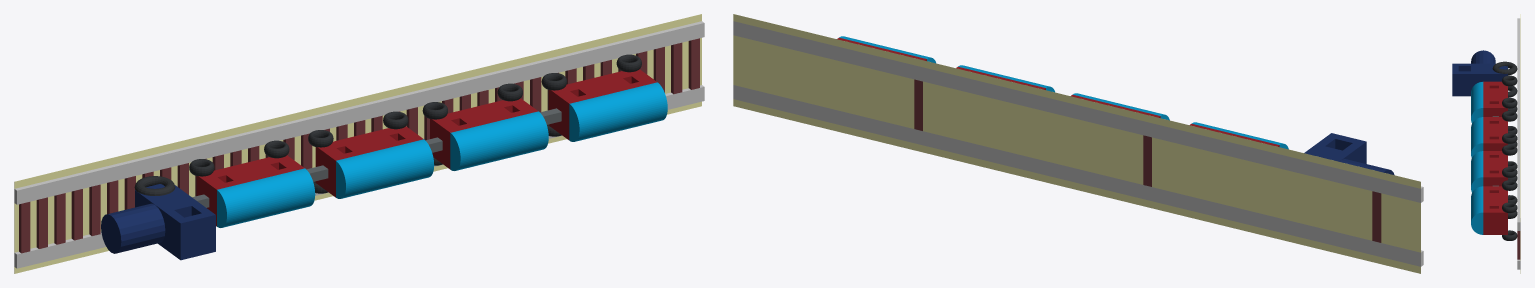
File: tinker.obj
The picture shows the model from 3 angles, left to right: view 1: azimuth 30°, elevation 25°; view 2: azimuth 150°, elevation 25°; view 3: azimuth 270°, elevation 25°; orthographic projection. The views are drawn at different scales.
Parts seen in each view (by area): view 1: group_0_40919, group_0_0, group_0_15789994, group_0_7682109, group_0_9771553, group_0_1650274, group_0_2829873, group_0_6383466; view 2: group_0_15789994, group_0_0, group_0_1650274, group_0_7682109, group_0_40919, group_0_9771553; view 3: group_0_9771553, group_0_2829873, group_0_40919, group_0_1650274, group_0_0, group_0_15789994, group_0_7682109.
Part boxes in pixels (box(x1,y1,x2,y2)): group_0_40919: box(217, 82, 667, 227); group_0_0: box(14, 21, 704, 268); group_0_15789994: box(14, 14, 701, 273); group_0_7682109: box(19, 38, 699, 253); group_0_9771553: box(196, 69, 656, 226); group_0_1650274: box(101, 184, 215, 260); group_0_2829873: box(134, 54, 641, 195); group_0_6383466: box(192, 108, 561, 207); group_0_15789994: box(733, 14, 1420, 273); group_0_0: box(733, 21, 1423, 266); group_0_1650274: box(1304, 133, 1394, 175); group_0_7682109: box(914, 79, 1381, 242); group_0_40919: box(839, 36, 1288, 149); group_0_9771553: box(837, 37, 1279, 146); group_0_9771553: box(1483, 81, 1507, 234); group_0_2829873: box(1492, 61, 1517, 240); group_0_40919: box(1471, 82, 1483, 234); group_0_1650274: box(1452, 50, 1507, 96); group_0_0: box(1517, 18, 1520, 269); group_0_15789994: box(1520, 14, 1520, 273); group_0_7682109: box(1517, 231, 1520, 259).
Size of the model in its own units: 156 by 20 by 22.
